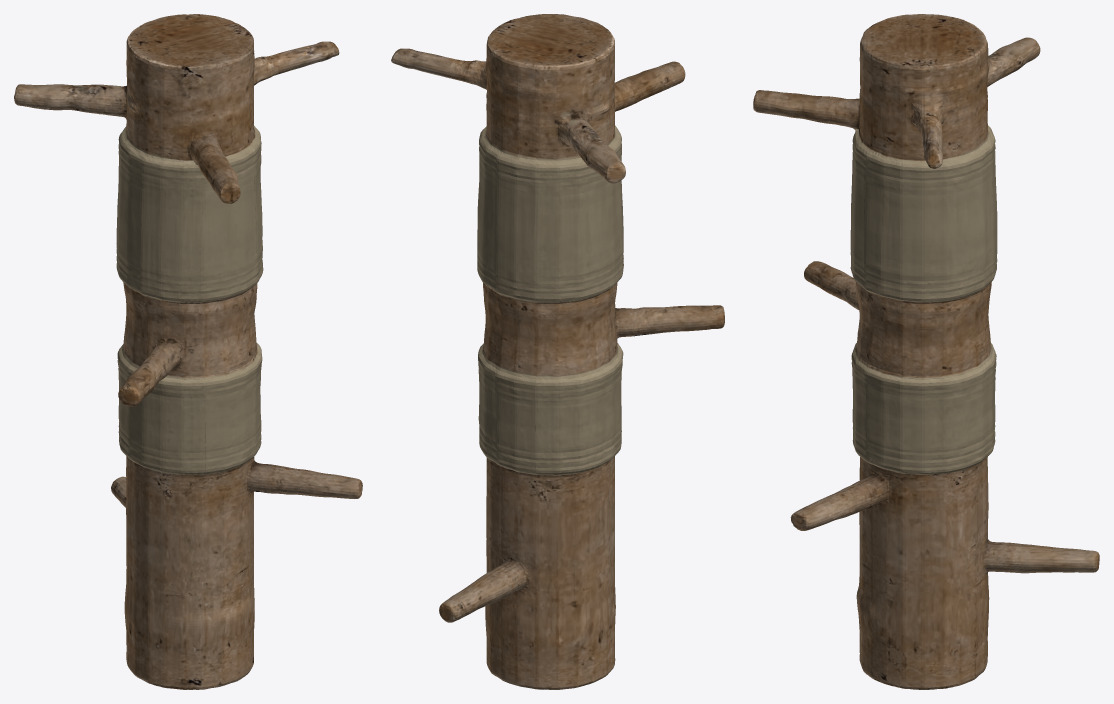
3 views of the same model, side by side, from view 1: azimuth 30°, elevation 25°; view 2: azimuth 150°, elevation 25°; view 3: azimuth 270°, elevation 25° (orthographic).
Parts seen in each view (by area): view 1: Node; view 2: Node; view 3: Node.
Part boxes in pixels (x1,y1,x2,y2): Node: [14, 14, 362, 689]; Node: [391, 14, 724, 689]; Node: [753, 14, 1099, 689].
Size of the model in its own units: 0.9077 by 1.95 by 0.9815.
Materials: 1 (1 with a texture image).
